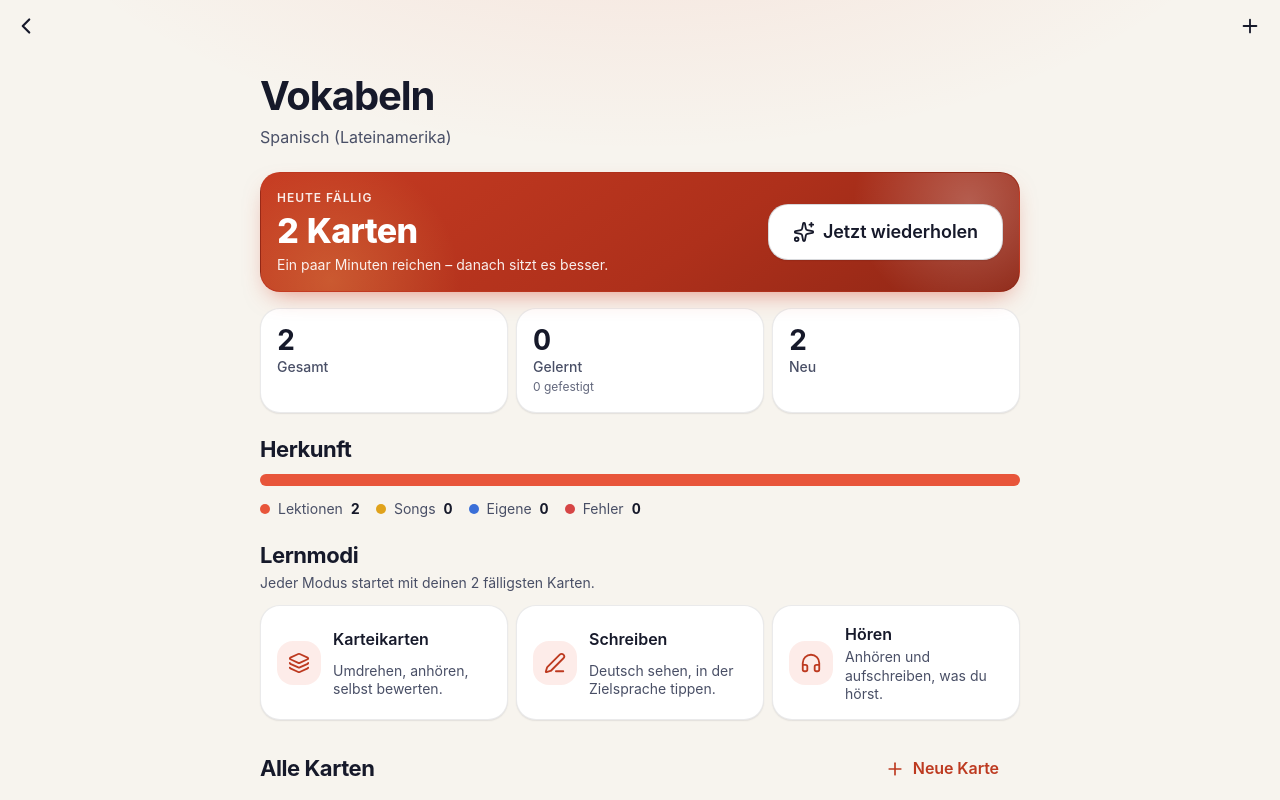
Test: Vokabeltrainer (Smoke) › Karteikarten-Runde plant Karten ein und vergibt die Rundenbelohnung
The image size is (1280, 800).
Expected: the text "2 Karten" is shown, [277,210,417,251]
Click the button "Jetzt wiederholen". click: (885, 232)
box: [768,204,1003,260]
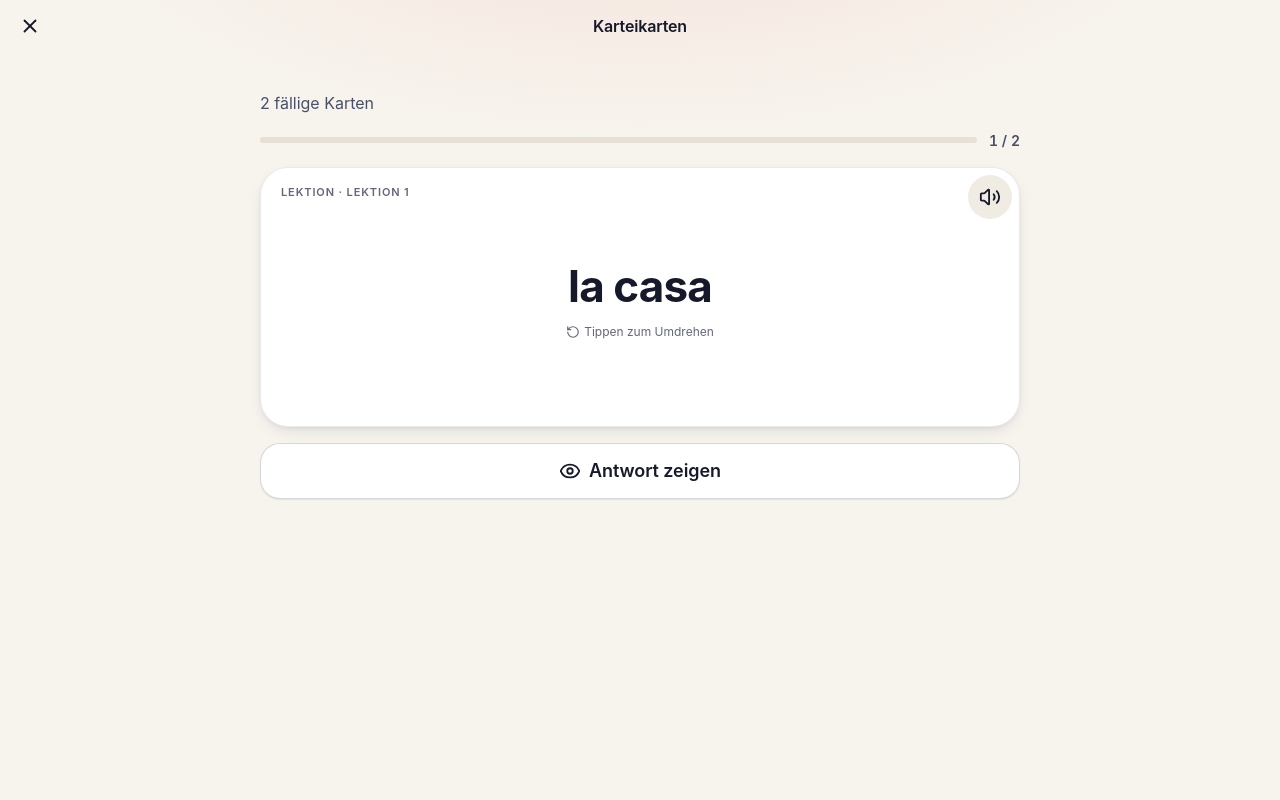
Click the button "Antwort zeigen". click: (640, 471)
box: [260,443,1020,499]
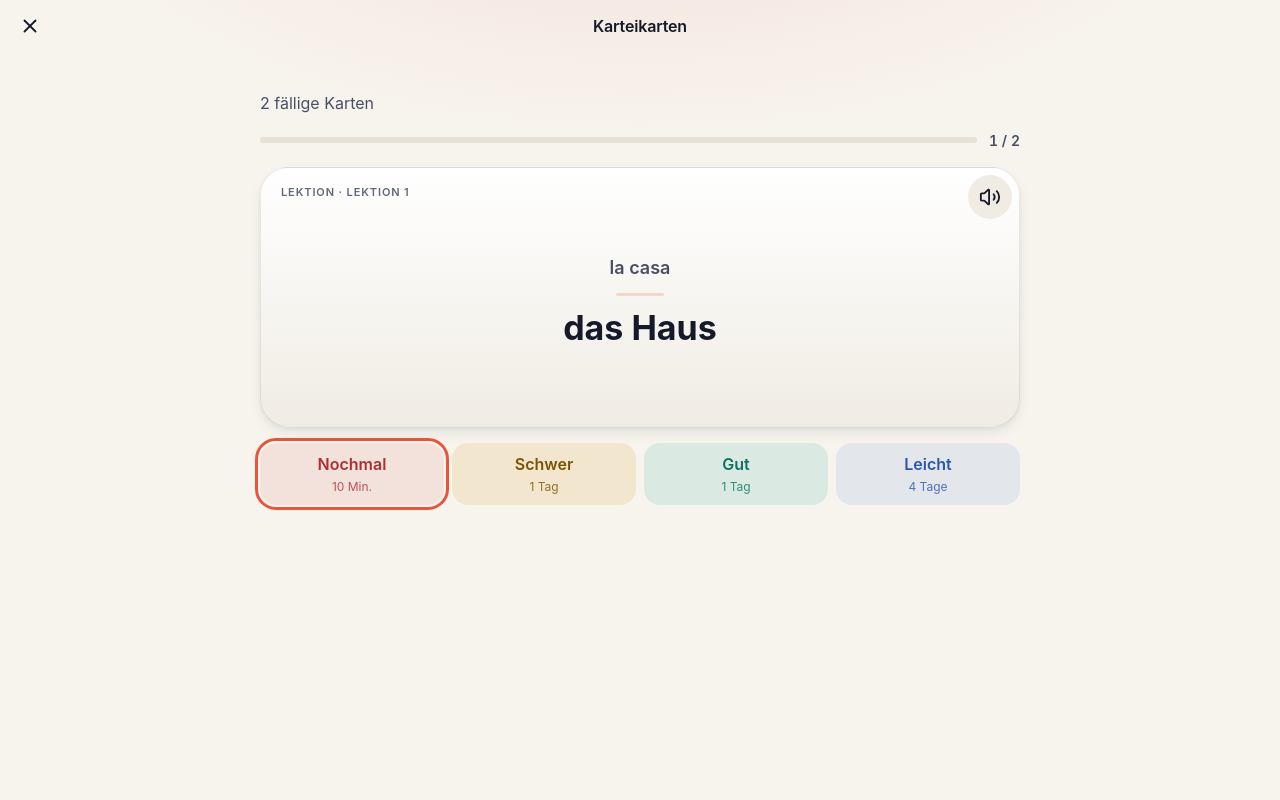
Click the button "Gut 1 Tag". click: (736, 474)
box: [644,443,828,505]
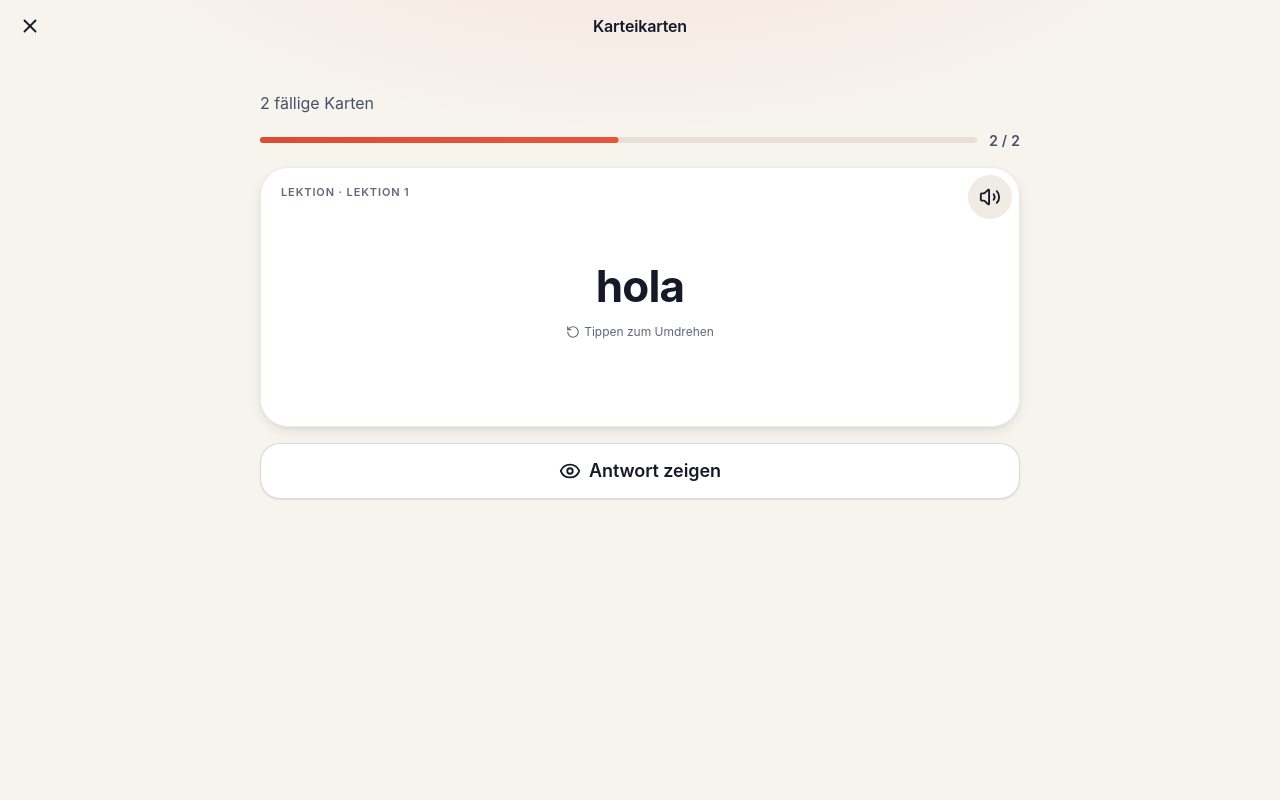
Click the button "Antwort zeigen". click: (640, 471)
box: [260,443,1020,499]
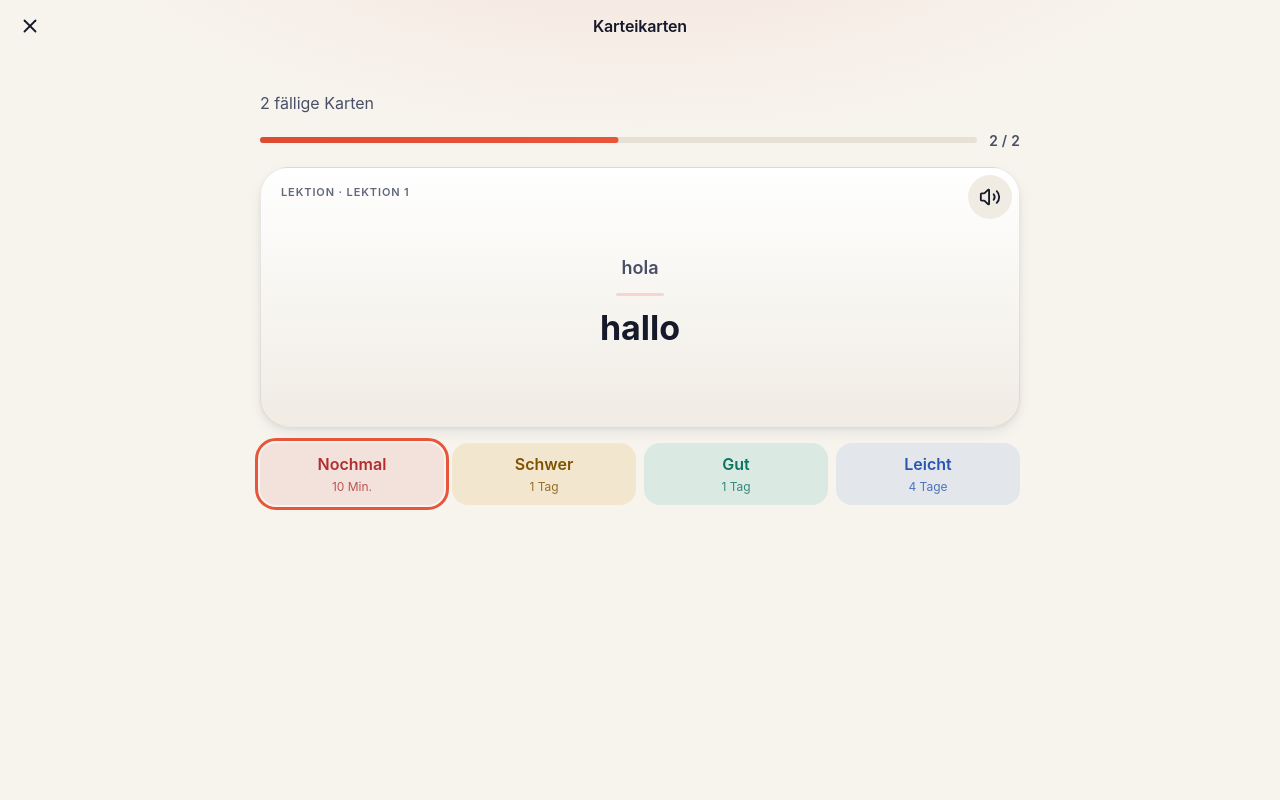
Click the button "Gut 1 Tag". click: (736, 474)
box: [644,443,828,505]
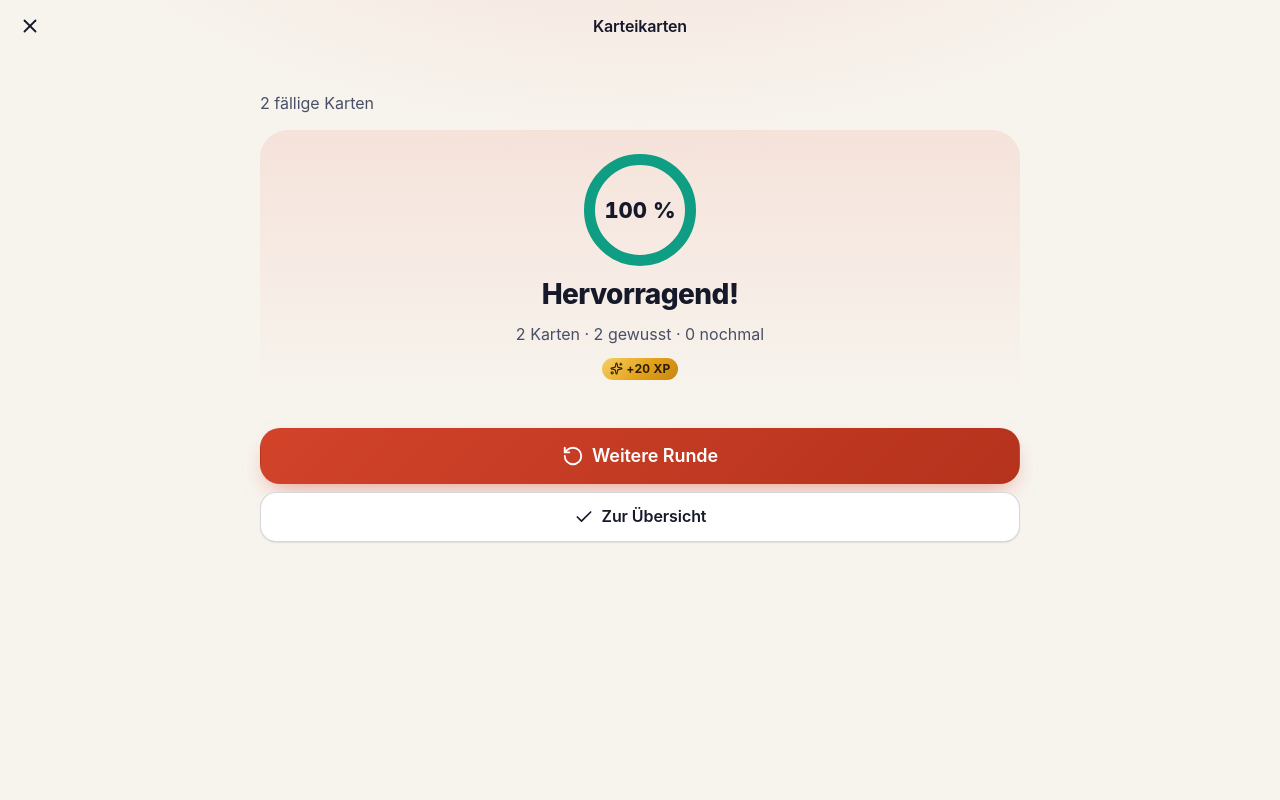
Expected: the text "2 Karten · 2 gewusst · 0 nochmal" is shown, [516,322,764,346]
